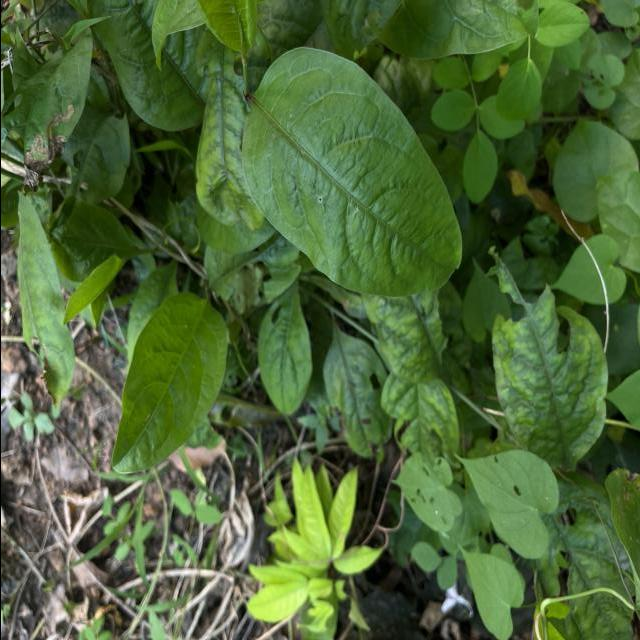Plumbago indica: (235, 41, 470, 299), (105, 288, 233, 486)
